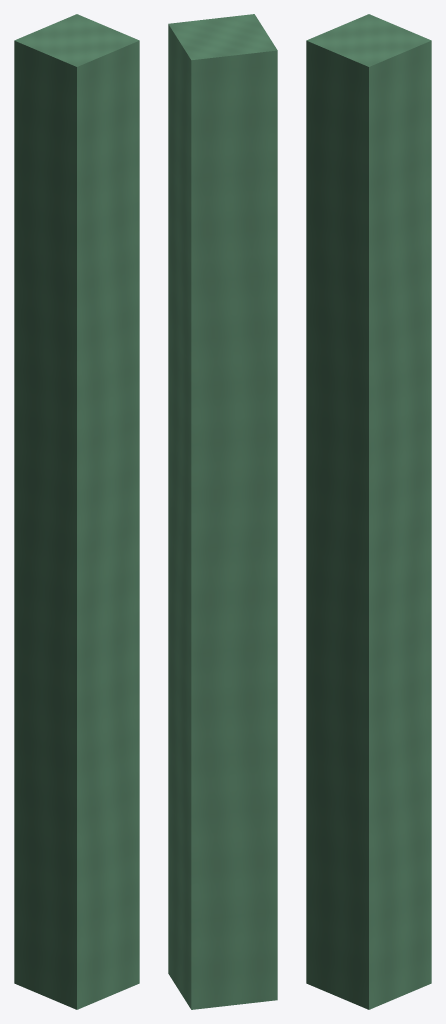
The model's file is atlas100-s009-a05.lod2.glb.
3 views of the same model, side by side, from view 1: azimuth 90°, elevation 25°; view 2: azimuth 150°, elevation 25°; view 3: azimuth 270°, elevation 25° (orthographic).
Visible parts, largest first — view 1: atlas100-s009-a05:part-000; view 2: atlas100-s009-a05:part-000; view 3: atlas100-s009-a05:part-000.
Part boxes in pixels (x1,y1,x2,y2): atlas100-s009-a05:part-000: [14, 14, 139, 1009]; atlas100-s009-a05:part-000: [168, 14, 277, 1009]; atlas100-s009-a05:part-000: [306, 14, 431, 1009].
Bounding box in the file's own units: 0.0764 × 0.6334 × 0.0764.
1 material, 1 textured.
